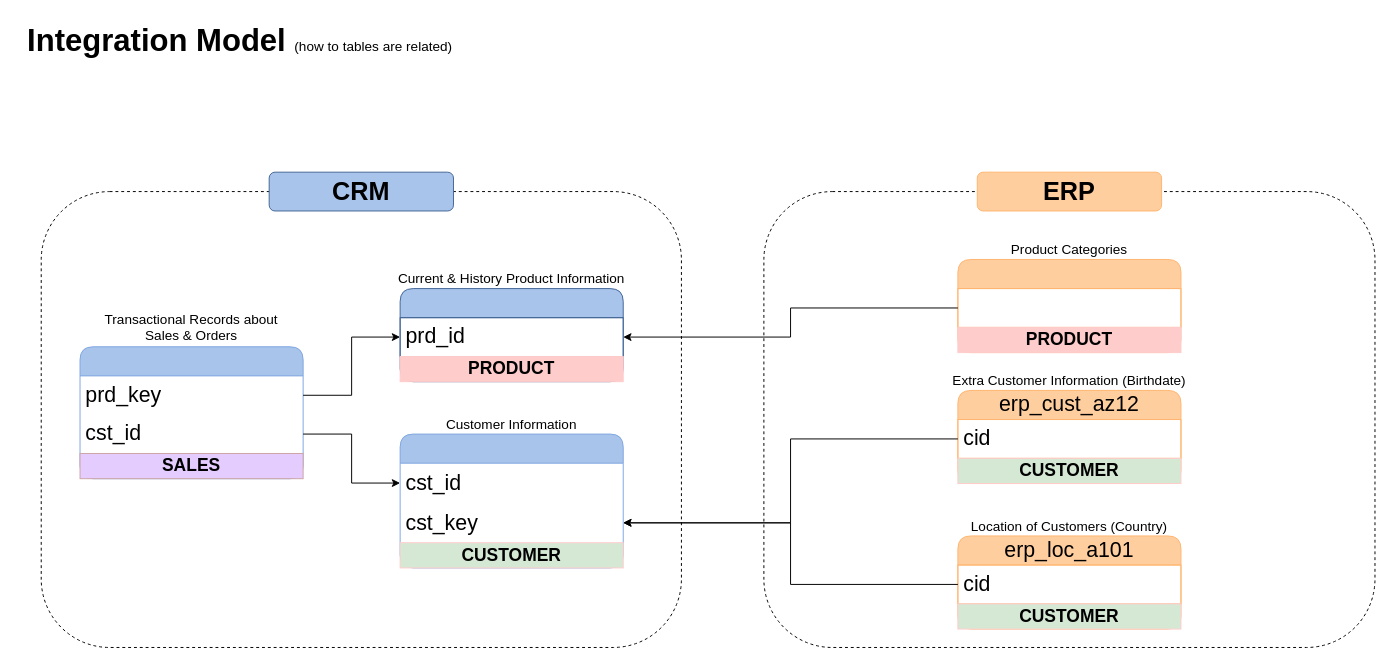
The diagram is 1392 pixels wide and 664 high, and some of its shapes have lost their labels. Each missing label, with the box of its shape:
crm_cust_info: (399, 433, 623, 568)
crm_prd_info: (399, 288, 623, 382)
crm_sales_details: (79, 346, 303, 479)
erp_px_cat_g1v2: (957, 259, 1181, 353)
id: (957, 288, 1181, 327)
